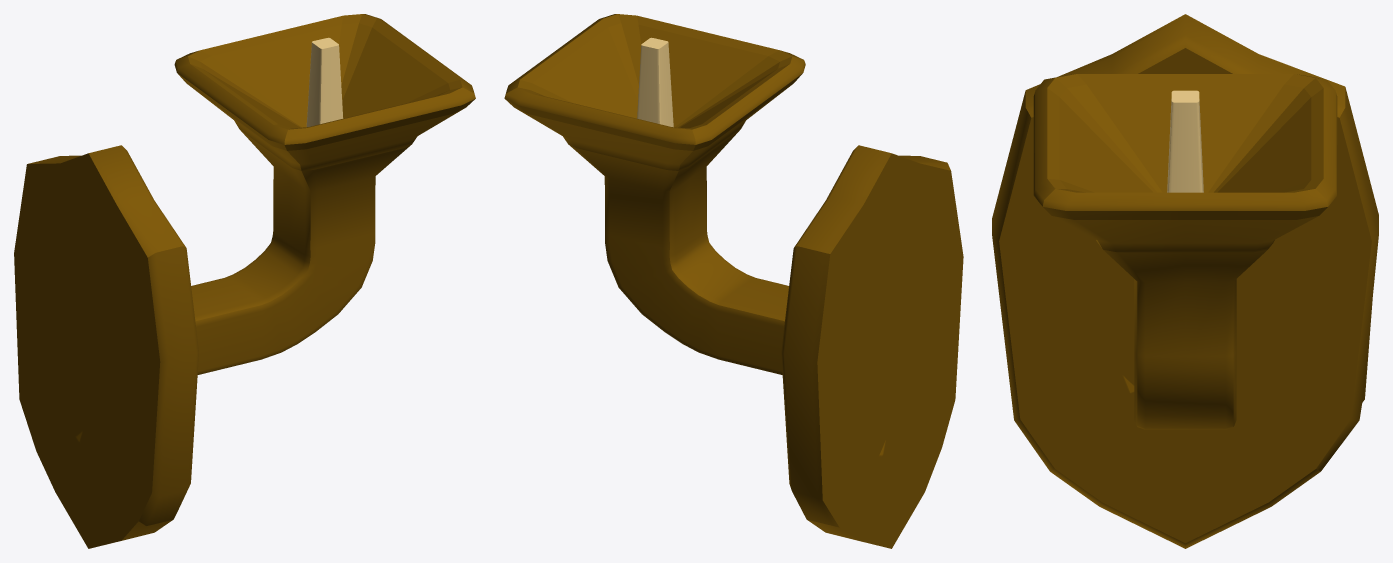
File: Lantern_Textured.fbx
3 renders of one model, left to right at view 1: azimuth 30°, elevation 25°; view 2: azimuth 150°, elevation 25°; view 3: azimuth 270°, elevation 25°, orthographic. The views are drawn at different scales.
Visible parts, largest first — view 1: Lantern; view 2: Lantern; view 3: Lantern.
Part boxes in pixels (x1=…): Lantern: x1=14, y1=14, x2=475, y2=548; Lantern: x1=504, y1=14, x2=963, y2=548; Lantern: x1=992, y1=14, x2=1378, y2=548.
Bounding box in the file's own units: 1.5 × 1.89 × 1.14.
